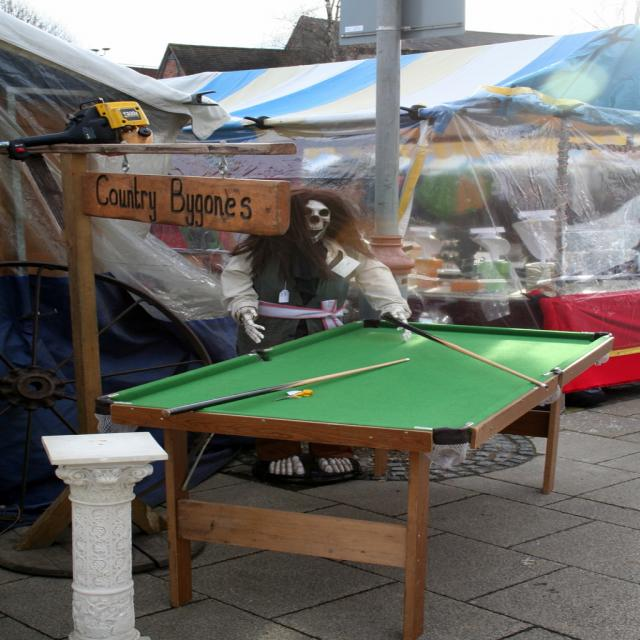Billiard table: (96, 316, 615, 639)
